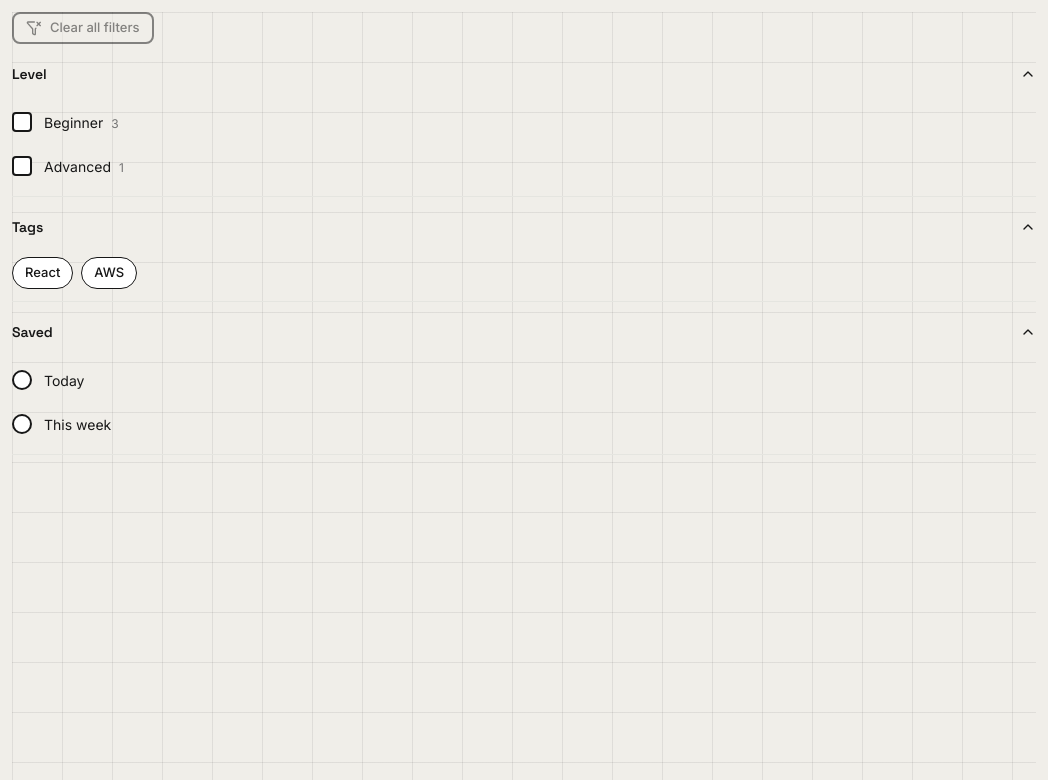
Test case: FilterPanel › collapses and expands a group
Click the button "Level" at (29, 74), box [12,52,1036,96]
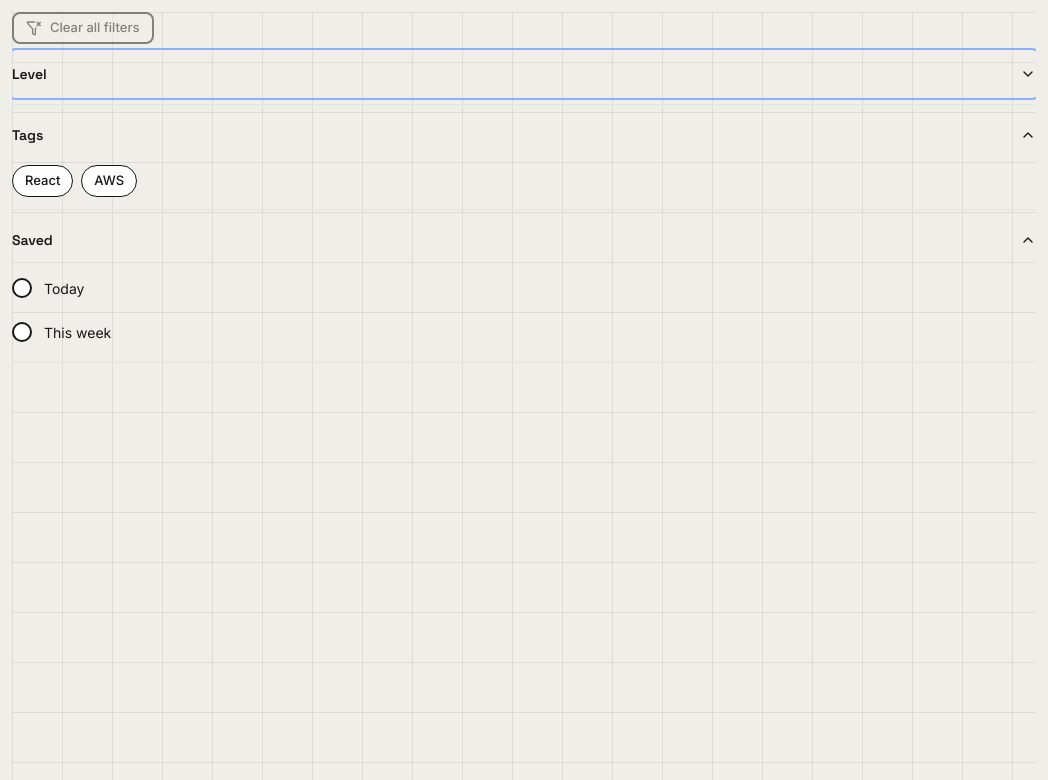
expect the button "Level" is collapsed: met, box [12,52,1036,96]
expect the checkbox labelled "Beginner" is gone: met
